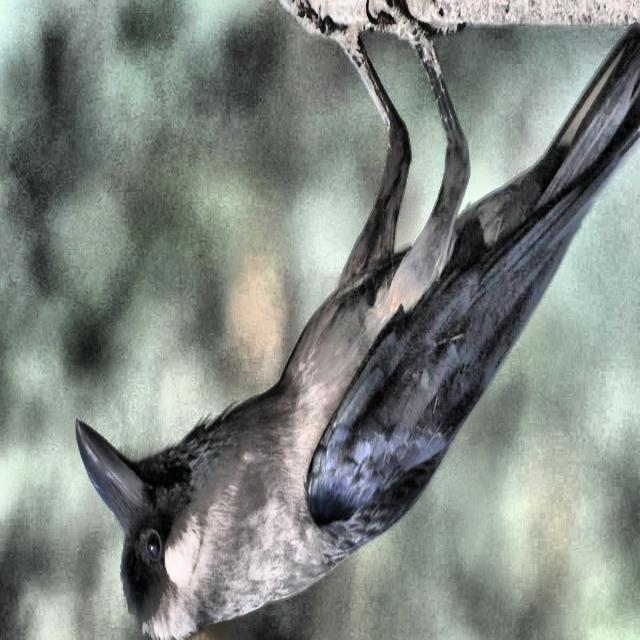crow: (54, 1, 640, 640)
